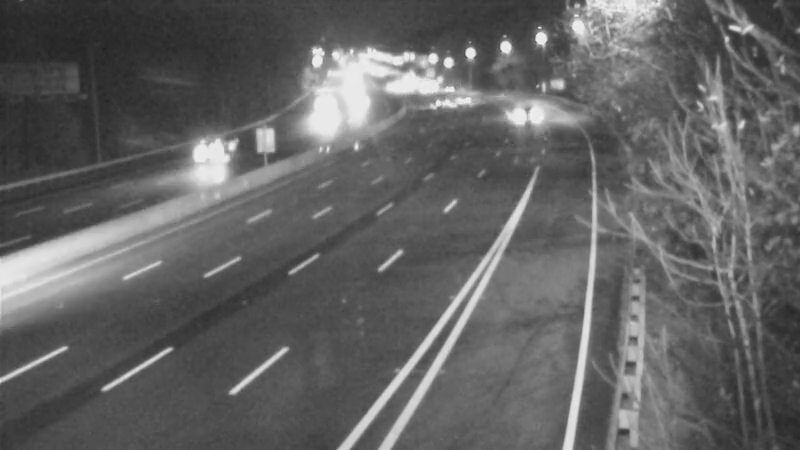vehicle: (166, 115, 246, 195), (429, 77, 479, 127), (410, 78, 460, 128), (489, 86, 539, 136), (304, 88, 354, 138)
